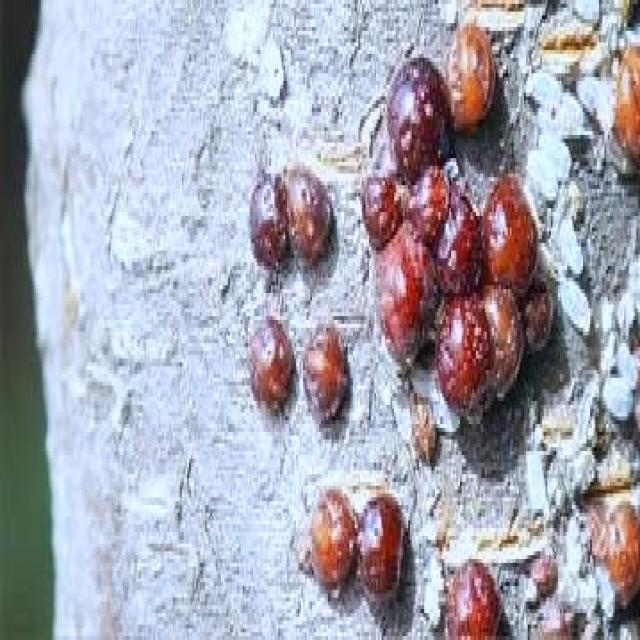Black Scale: (362, 62, 551, 416), (303, 486, 403, 601), (251, 162, 332, 270), (248, 312, 294, 424), (446, 23, 494, 127), (303, 324, 348, 420), (446, 559, 499, 636), (606, 501, 638, 601)
